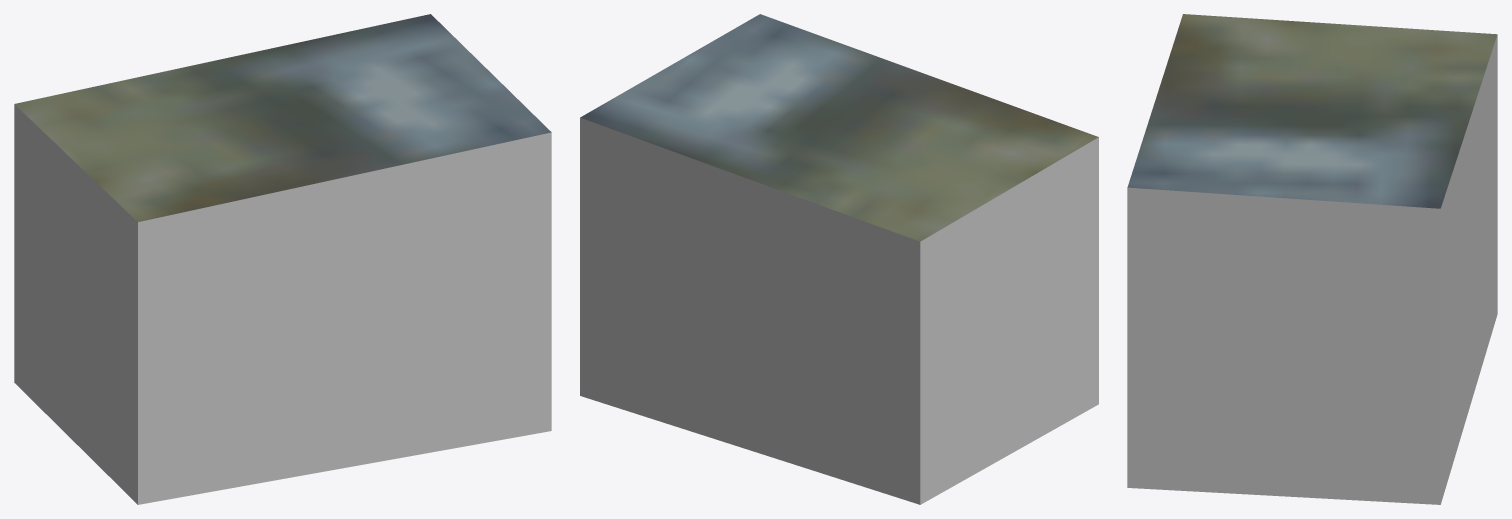
Rendered from DEBW_0010007Tx4v.gltf.
3 renders of one model, left to right at view 1: azimuth 30°, elevation 25°; view 2: azimuth 150°, elevation 25°; view 3: azimuth 270°, elevation 25°, orthographic. The views are drawn at different scales.
Visible parts, largest first — view 1: Z_UP; view 2: Z_UP; view 3: Z_UP.
Boxes of the visible parts, <box> form: Z_UP: <box>14,14,551,504</box>; Z_UP: <box>580,14,1098,504</box>; Z_UP: <box>1127,14,1497,504</box>.
Bounding box in the file's own units: 3.87 × 2.62 × 2.93.
2 materials, 1 textured.
